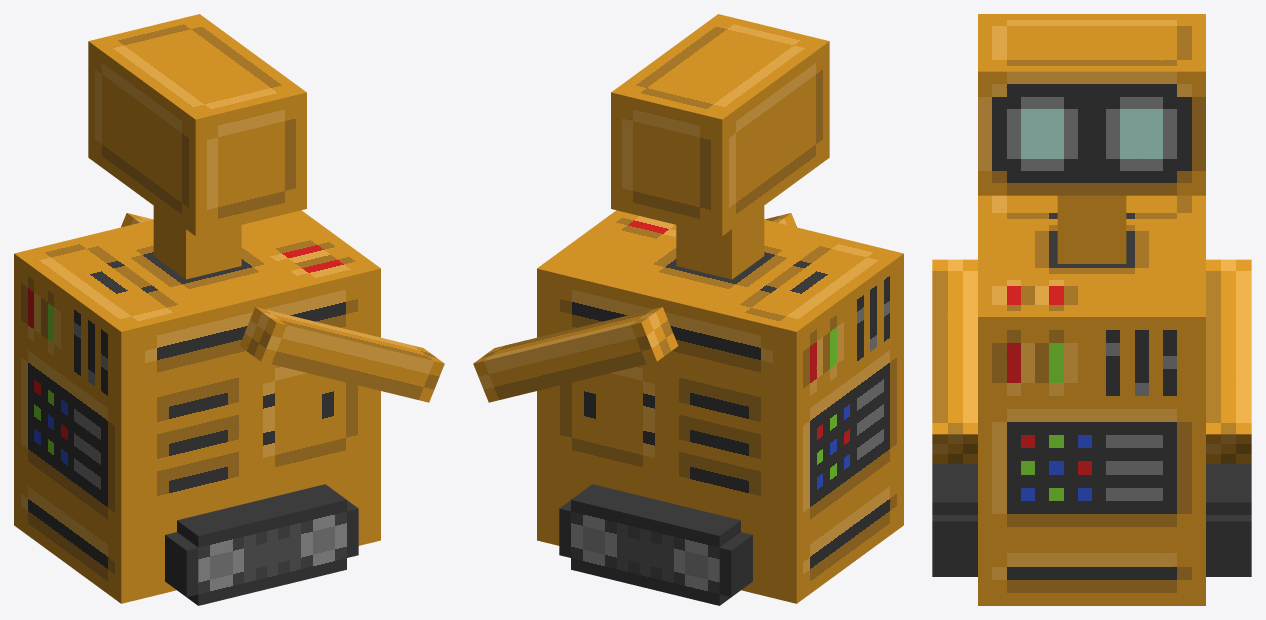
Rendered from Robot.fbx.
3 renders of one model, left to right at view 1: azimuth 30°, elevation 25°; view 2: azimuth 150°, elevation 25°; view 3: azimuth 270°, elevation 25°, orthographic. The views are drawn at different scales.
Parts seen in each view (by area): view 1: Robot; view 2: Robot; view 3: Robot.
Boxes of the visible parts, x1,y1,x2,y2 form: Robot: (14,14,444,605); Robot: (473,14,903,605); Robot: (932,14,1251,605).
Bounding box in the file's own units: 81.4 × 120 × 70.
Materials: 12 (12 with a texture image).
